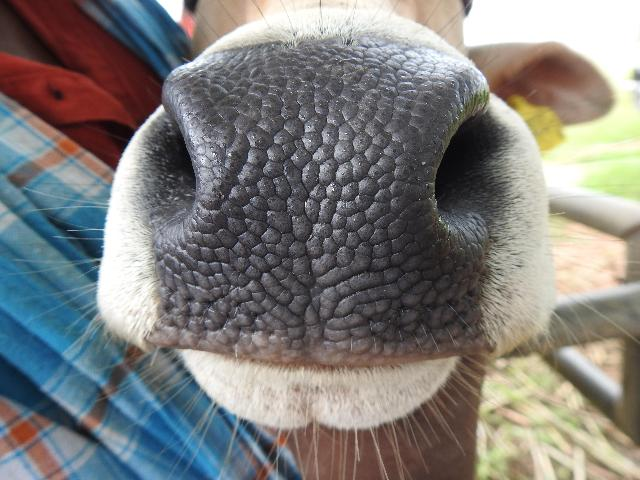Muzzle: (176, 69, 440, 345)
